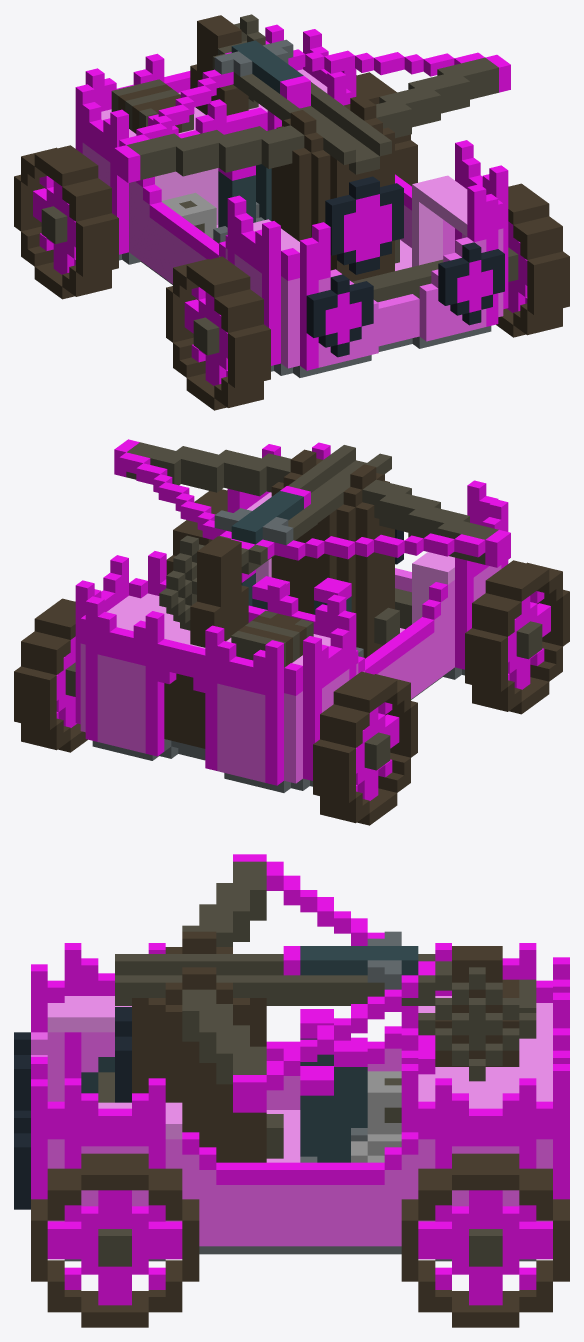
File: rocket_artillery.obj
3 views of the same model, one above another, from view 1: azimuth 30°, elevation 25°; view 2: azimuth 150°, elevation 25°; view 3: azimuth 270°, elevation 25° (orthographic). The views are drawn at different scales.
Size of the model in its own units: 3.2 by 1.8 by 3.3.
1 material, 1 textured.
